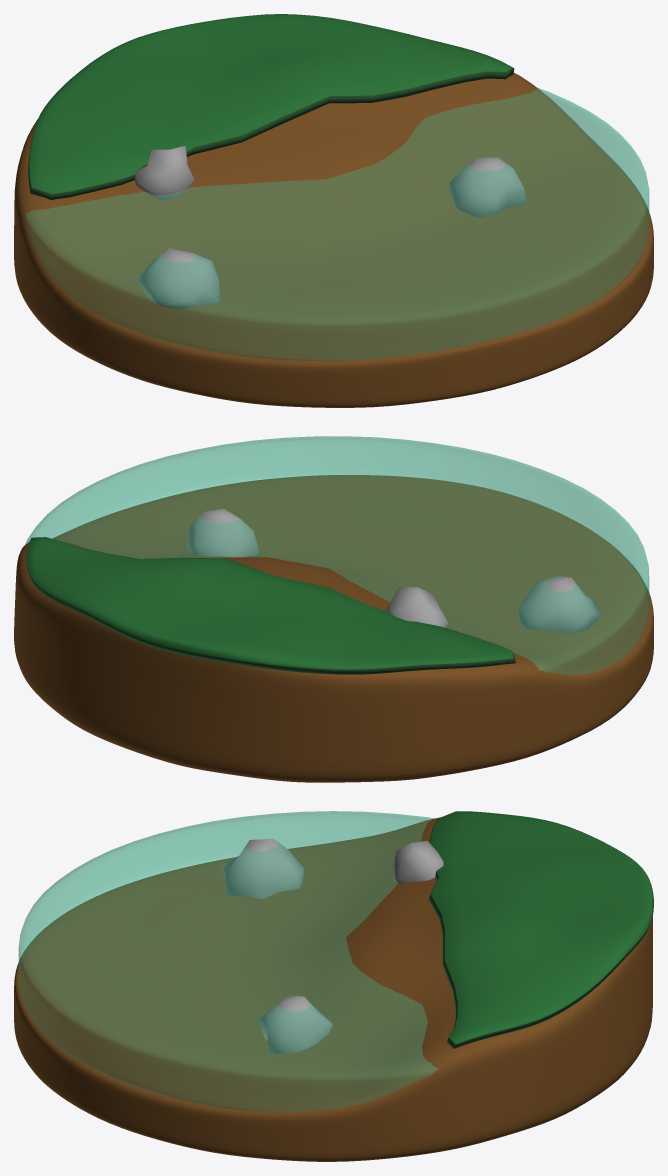
The model's file is pond.glb.
The picture shows the model from 3 angles, top to bottom: view 1: azimuth 30°, elevation 25°; view 2: azimuth 150°, elevation 25°; view 3: azimuth 270°, elevation 25°; orthographic projection.
Visible parts, largest first — view 1: Cylinder, Cylinder.001, Cylinder.002, Stone.001, Stone, Stone.002; view 2: Cylinder, Cylinder.001, Cylinder.002, Stone.001, Stone, Stone.002; view 3: Cylinder, Cylinder.001, Cylinder.002, Stone.001, Stone, Stone.002.
Boxes of the visible parts, box(x1,y1,x2,y2) form: Cylinder: box(14, 73, 653, 407); Cylinder.001: box(25, 88, 649, 360); Cylinder.002: box(28, 14, 514, 199); Stone.001: box(137, 248, 219, 309); Stone: box(449, 157, 526, 217); Stone.002: box(135, 145, 193, 199); Cylinder: box(14, 475, 653, 782); Cylinder.001: box(25, 436, 649, 674); Cylinder.002: box(26, 537, 515, 674); Stone.001: box(518, 576, 601, 633); Stone: box(187, 509, 259, 557); Stone.002: box(386, 587, 447, 627); Cylinder: box(14, 817, 652, 1161); Cylinder.001: box(18, 811, 438, 1111); Cylinder.002: box(428, 811, 653, 1048); Stone.001: box(221, 838, 304, 898); Stone: box(258, 995, 333, 1053); Stone.002: box(393, 840, 443, 884).
Bounding box in the file's own units: 6.36 × 1.53 × 6.37.
